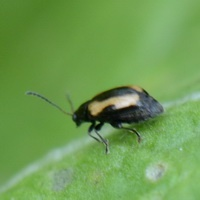insect: (26, 85, 163, 153)
